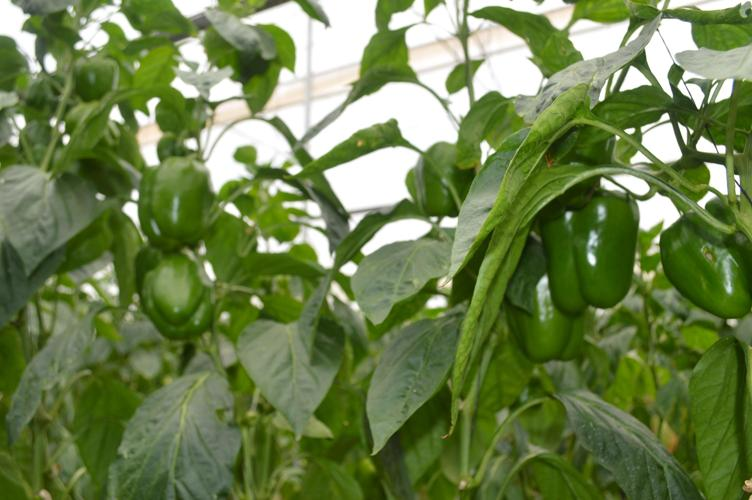BellPepper: (538, 191, 639, 310), (653, 194, 748, 319), (504, 273, 577, 363), (134, 160, 210, 241), (137, 254, 207, 337), (546, 129, 618, 209), (409, 141, 473, 219), (74, 54, 119, 101)
